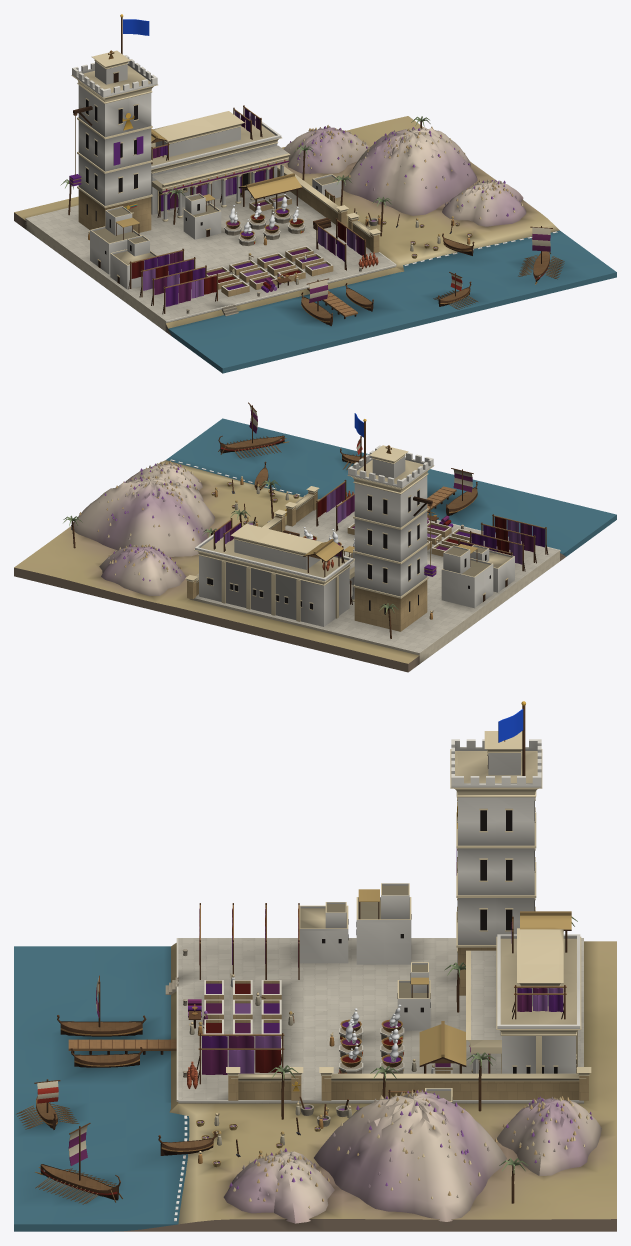
Rendered from lm_morboya.glb.
The picture shows the model from 3 angles, top to bottom: view 1: azimuth 30°, elevation 25°; view 2: azimuth 150°, elevation 25°; view 3: azimuth 270°, elevation 25°; orthographic projection. The views are drawn at different scales.
Parts seen in each view (by area): view 1: lm_morboya; view 2: lm_morboya; view 3: lm_morboya.
Boxes of the visible parts, box(x1,y1,x2,y2) form: lm_morboya: box(14, 14, 616, 373); lm_morboya: box(14, 402, 616, 672); lm_morboya: box(14, 701, 616, 1231).
Bounding box in the file's own units: 2.42 × 1.23 × 2.2.
1 material, 1 textured.
